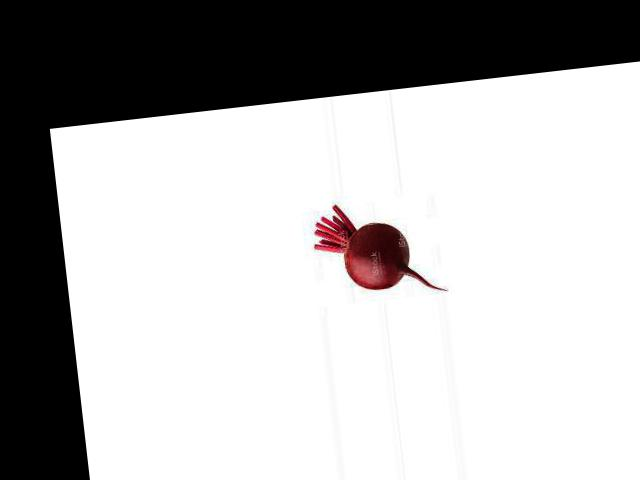beet: (309, 193, 445, 305)
